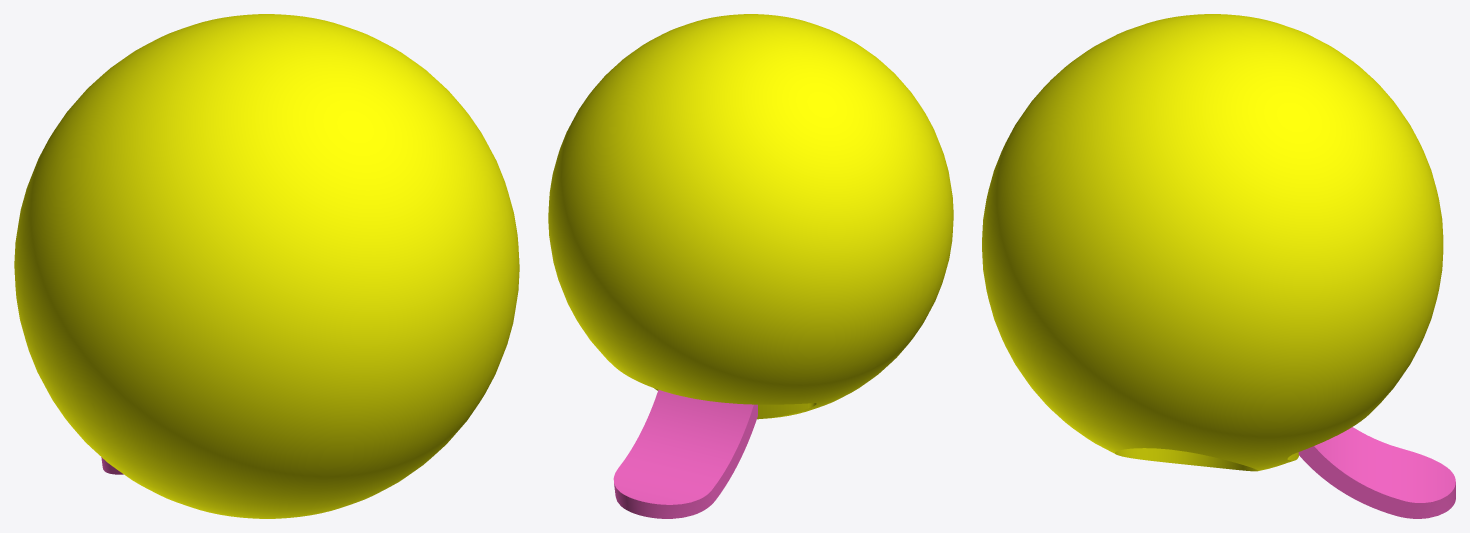
File: newcrazy 1.fbx
The picture shows the model from 3 angles, left to right: view 1: azimuth 30°, elevation 25°; view 2: azimuth 150°, elevation 25°; view 3: azimuth 270°, elevation 25°; orthographic projection. The views are drawn at different scales.
Visible parts, largest first — view 1: Object_1; view 2: Object_1, Object_3; view 3: Object_1, Object_3.
Part boxes in pixels (box(x1,y1,x2,y2)): Object_1: box(14, 14, 519, 518); Object_1: box(548, 14, 953, 419); Object_3: box(613, 389, 757, 518); Object_1: box(982, 14, 1443, 471); Object_3: box(1298, 427, 1455, 518).
Bounding box in the file's own units: 39.38 × 43.49 × 40.45.
